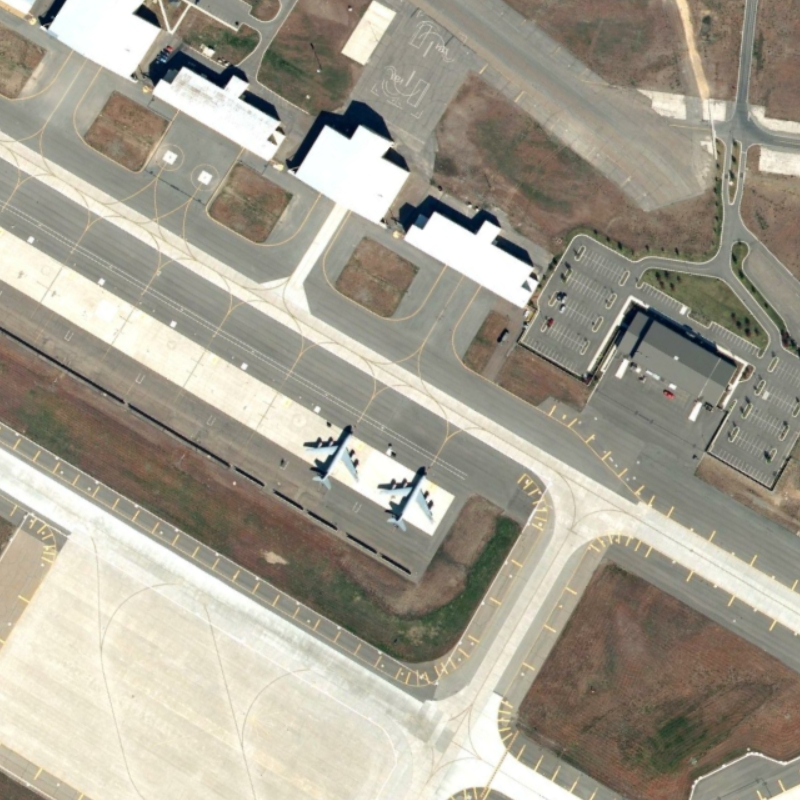A14: (298, 413, 371, 495), (374, 460, 443, 536)
